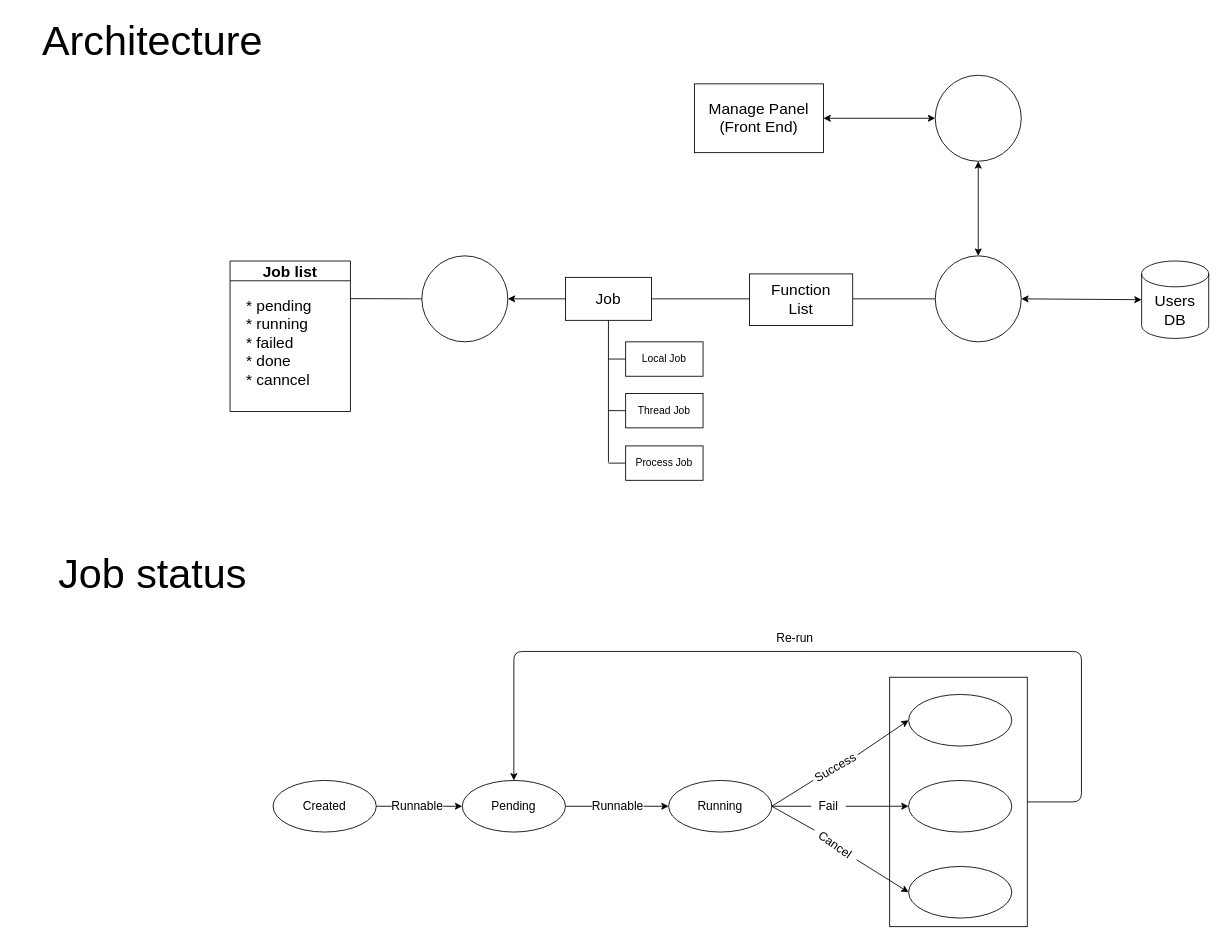
This 1224x942 diagram has some shape labels left out. The shapes that lost their labels are listed below. From the top down, each one's centre as x and y in pixels, then its label:
At point 977,117: "Client".
At point 464,298: "Engine".
At point 977,298: "Server".
At point 960,720: "Done".
At point 960,806: "Failed".
At point 960,892: "Canceled".
